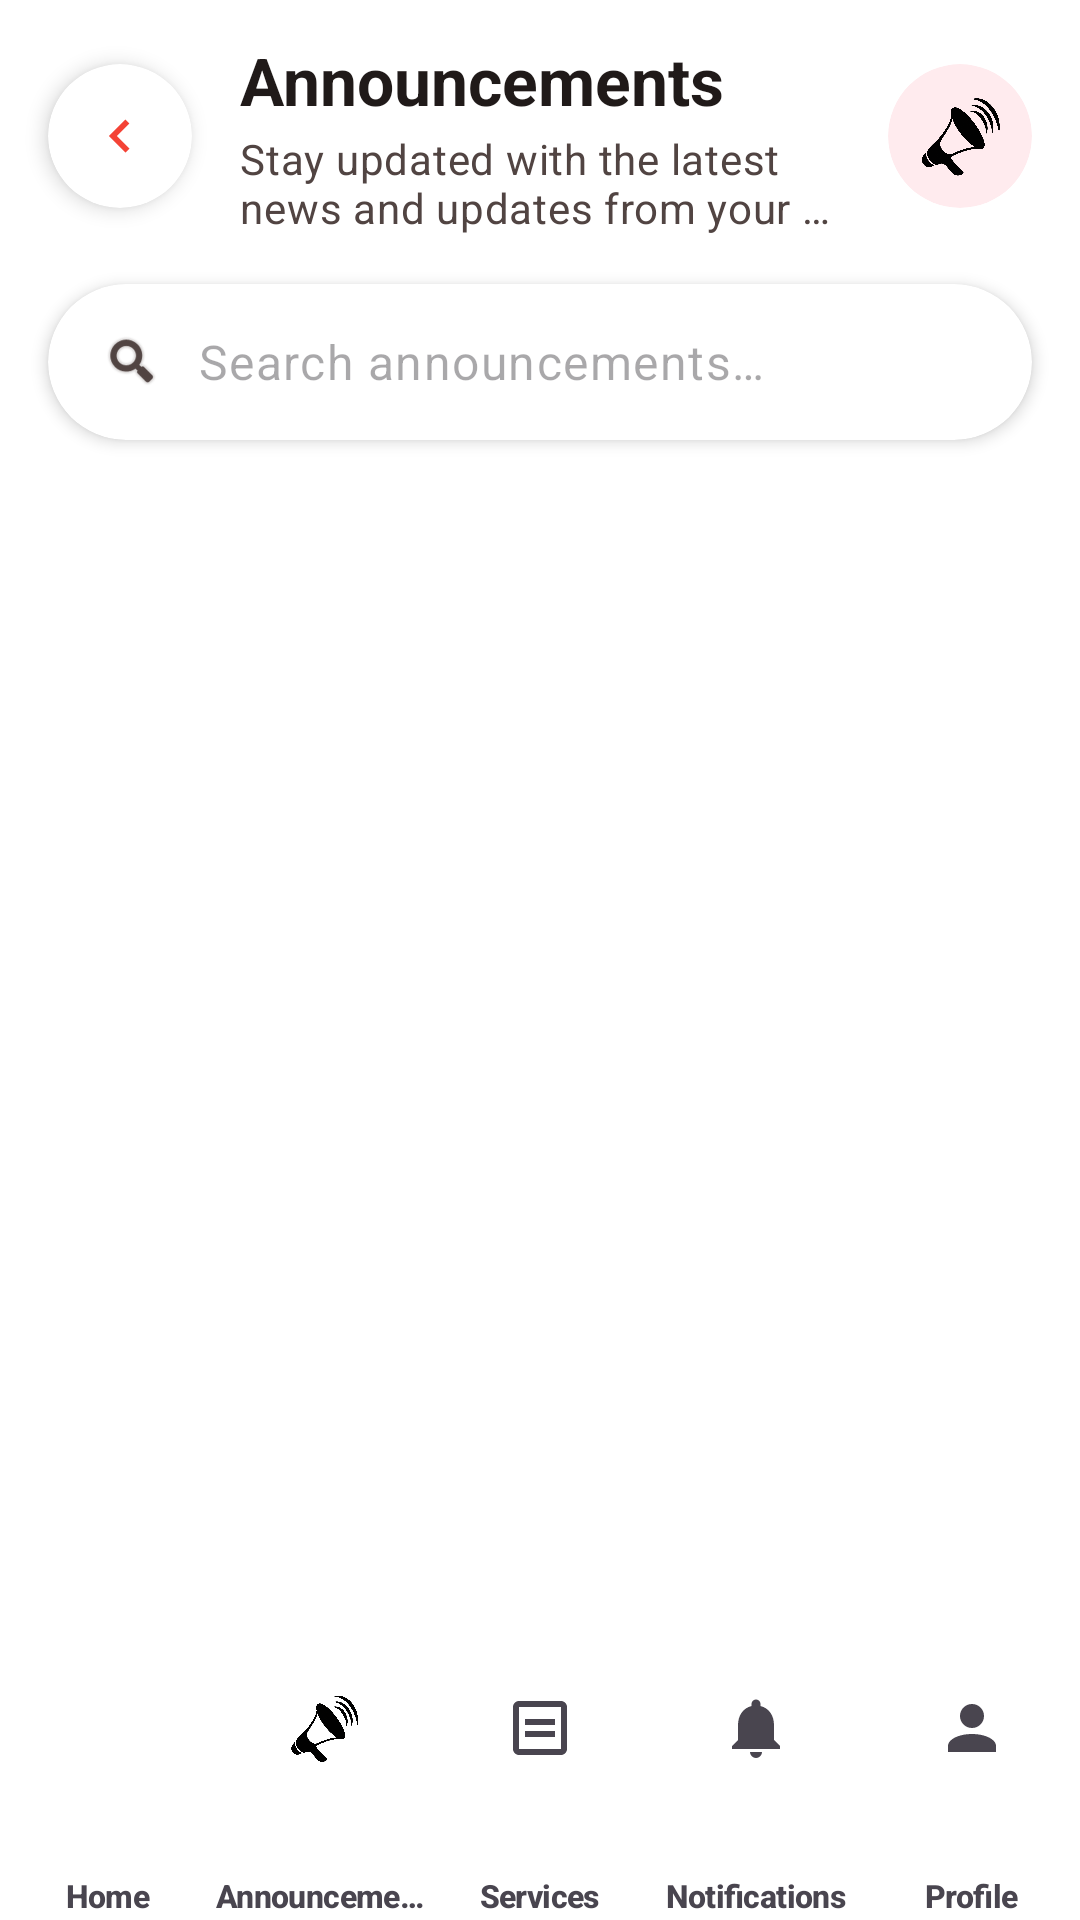

Locate icon controls on the screen. Image size 1080*1920, boxes as BBox(x1, y1, x2, y2).
search category: BBox(109, 339, 154, 383)
